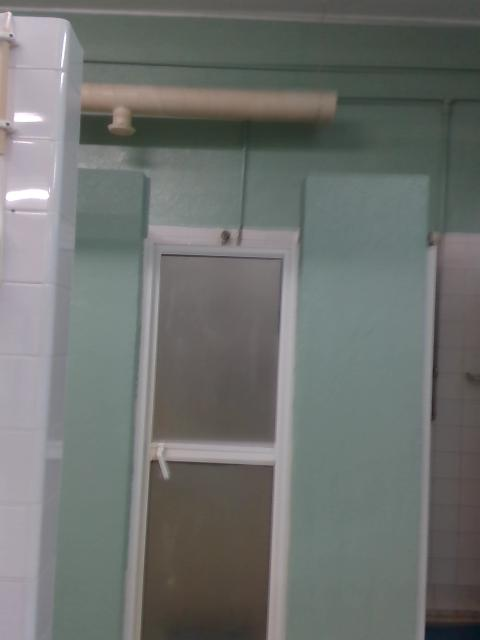door: (136, 245, 295, 640)
